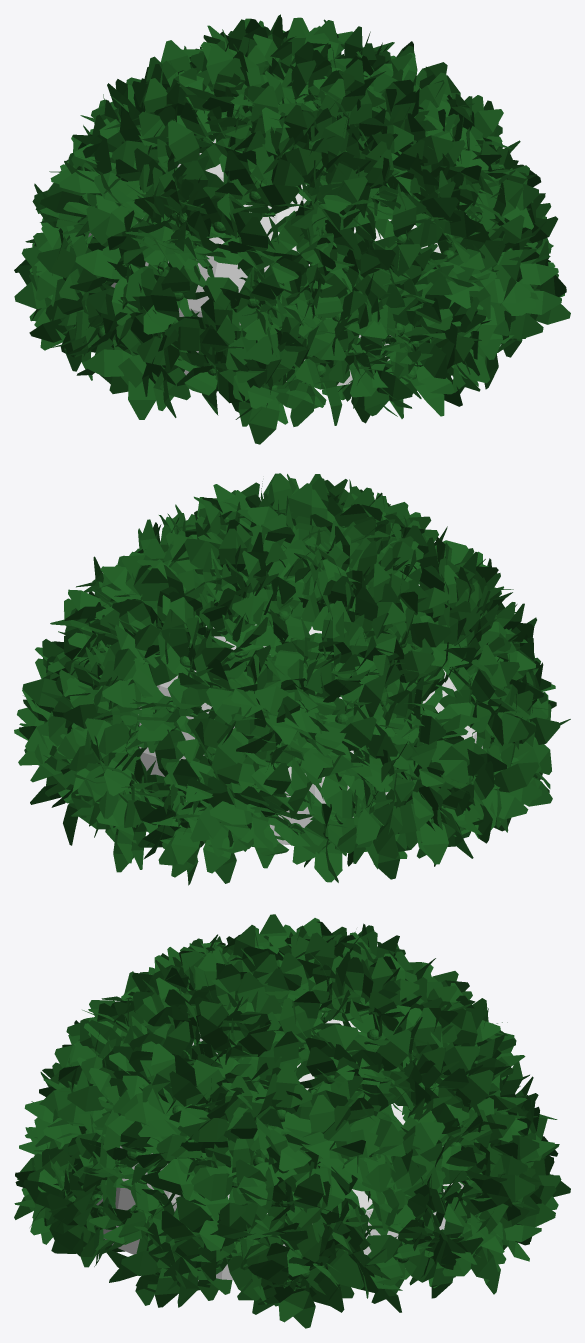
File: Bush.fbx
3 views of the same model, one above another, from view 1: azimuth 30°, elevation 25°; view 2: azimuth 150°, elevation 25°; view 3: azimuth 270°, elevation 25° (orthographic).
Parts seen in each view (by area): view 1: bush; view 2: bush; view 3: bush.
Part boxes in pixels (x1,y1,x2,y2): bush: (14, 14, 570, 444); bush: (14, 473, 570, 885); bush: (14, 914, 570, 1328).
Bounding box in the file's own units: 251 × 149 × 255.
